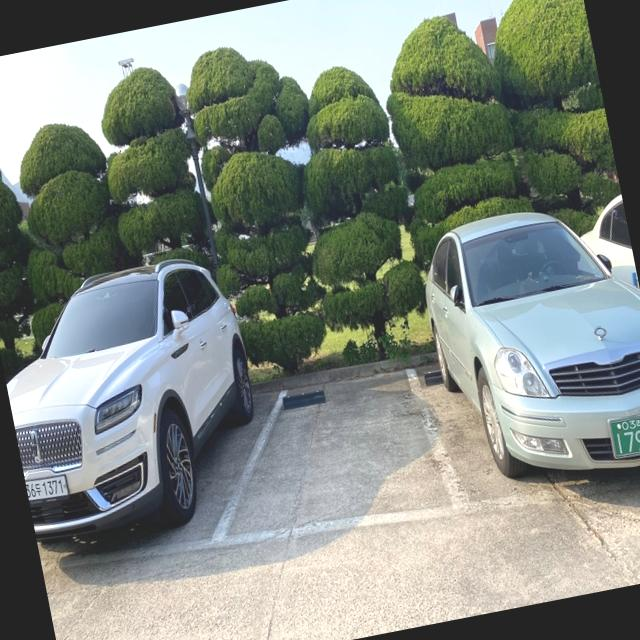car: (0, 251, 274, 538), (412, 194, 640, 492)
free: (204, 366, 484, 553)
